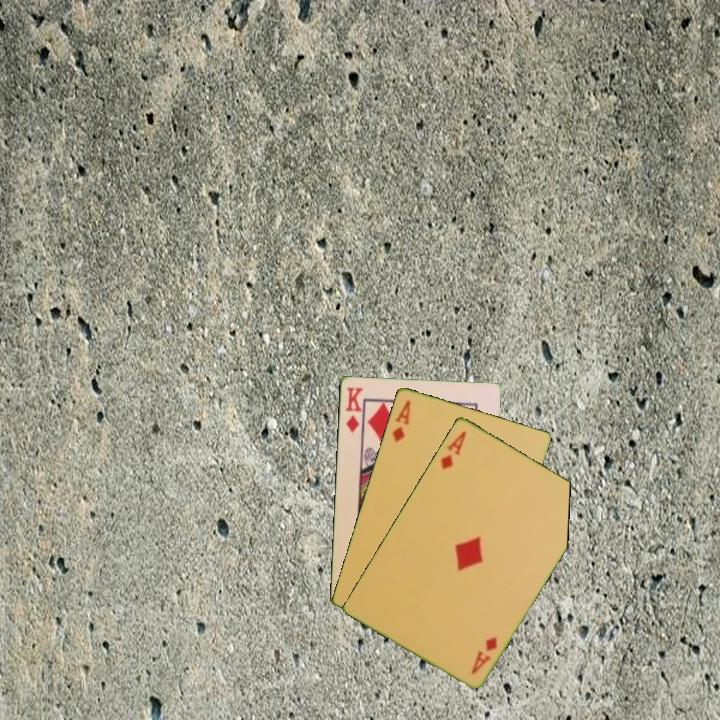Ad: (467, 633, 500, 677), (437, 427, 469, 472), (388, 396, 414, 445)
Kd: (342, 383, 365, 435)
